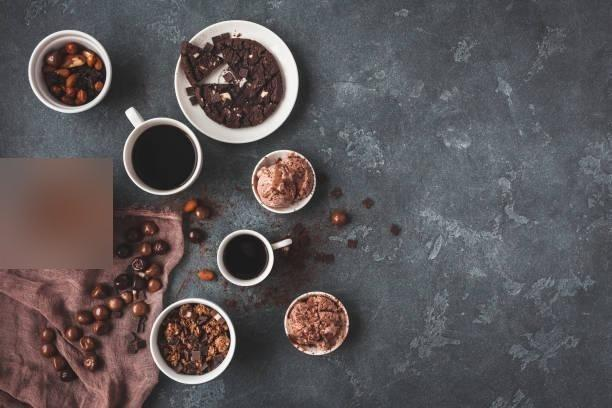cup-handle: (121, 105, 204, 197), (216, 227, 275, 288)
